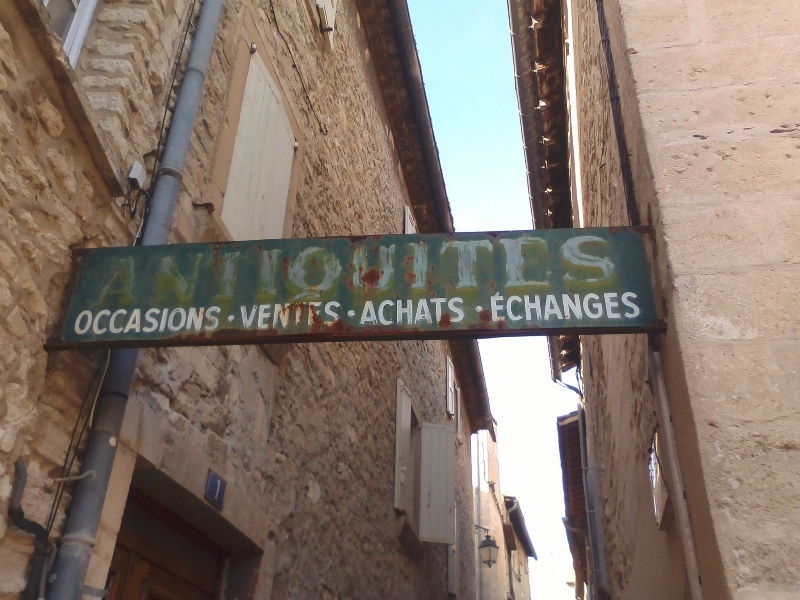text: (97, 231, 112, 312), (113, 231, 128, 312), (129, 231, 144, 312), (145, 231, 160, 312), (161, 231, 176, 312), (177, 231, 192, 312), (193, 231, 208, 312), (209, 231, 224, 312), (225, 231, 240, 312), (241, 231, 256, 312), (257, 231, 272, 312), (273, 231, 288, 312), (289, 231, 304, 312), (305, 231, 320, 312), (321, 231, 336, 312), (337, 231, 352, 312), (353, 231, 368, 312), (369, 231, 384, 312), (385, 231, 400, 312), (401, 231, 416, 312), (417, 231, 432, 312), (433, 231, 448, 312), (449, 231, 464, 312), (465, 231, 480, 312), (481, 231, 496, 312), (497, 231, 512, 312), (513, 231, 528, 312), (529, 231, 544, 312), (545, 231, 560, 312), (561, 231, 576, 312), (577, 231, 592, 312), (593, 231, 608, 312), (609, 231, 624, 312), (497, 288, 512, 323), (513, 288, 528, 323), (529, 288, 544, 323), (545, 288, 560, 323), (561, 288, 576, 323), (577, 288, 592, 323), (593, 288, 608, 323), (609, 288, 624, 323), (625, 288, 640, 323), (210, 473, 224, 508), (81, 305, 96, 337), (97, 305, 112, 337), (113, 305, 128, 337), (129, 305, 144, 337), (145, 305, 160, 337), (161, 305, 176, 337), (177, 305, 192, 337), (193, 305, 208, 337), (241, 299, 256, 331), (257, 299, 272, 331), (273, 299, 288, 331), (289, 299, 304, 331), (305, 299, 320, 331), (321, 299, 336, 331), (449, 298, 465, 326), (369, 298, 384, 326), (385, 298, 400, 326), (401, 298, 416, 326), (417, 298, 432, 326), (433, 298, 448, 326), (209, 305, 222, 337), (358, 298, 368, 326), (488, 288, 496, 323), (337, 299, 342, 331), (76, 305, 80, 337), (95, 231, 96, 312), (641, 288, 642, 323), (225, 473, 226, 508)
